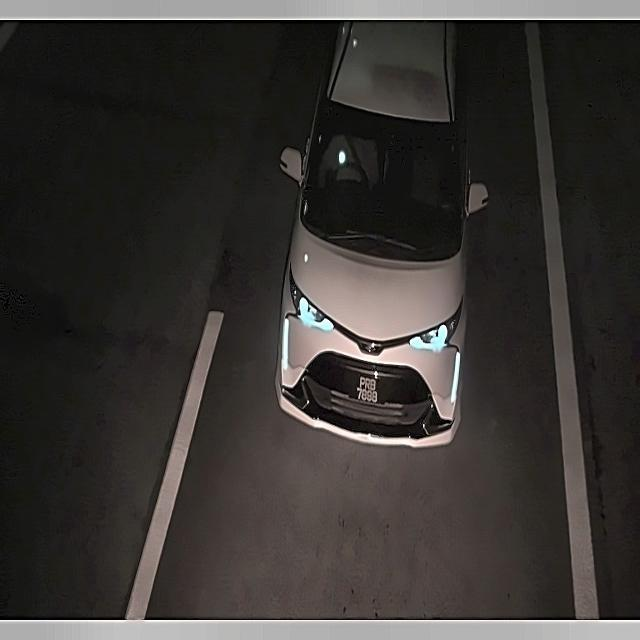car: (345, 363, 388, 413)
